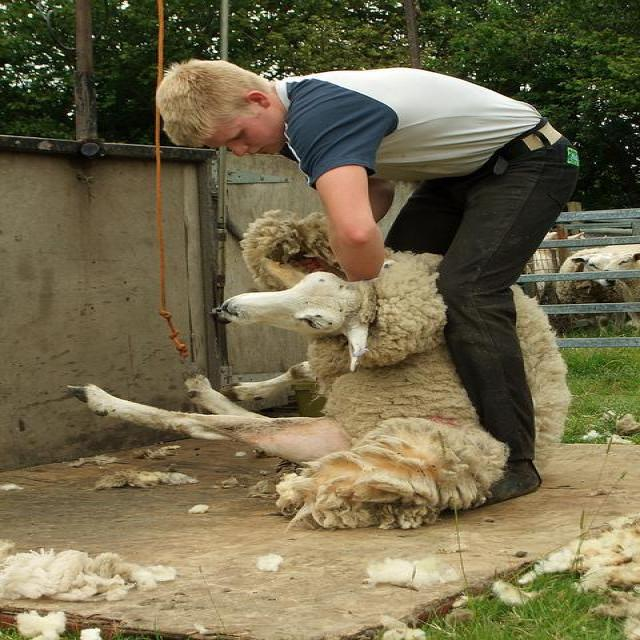Sheep: (65, 210, 571, 533), (555, 254, 633, 305)
